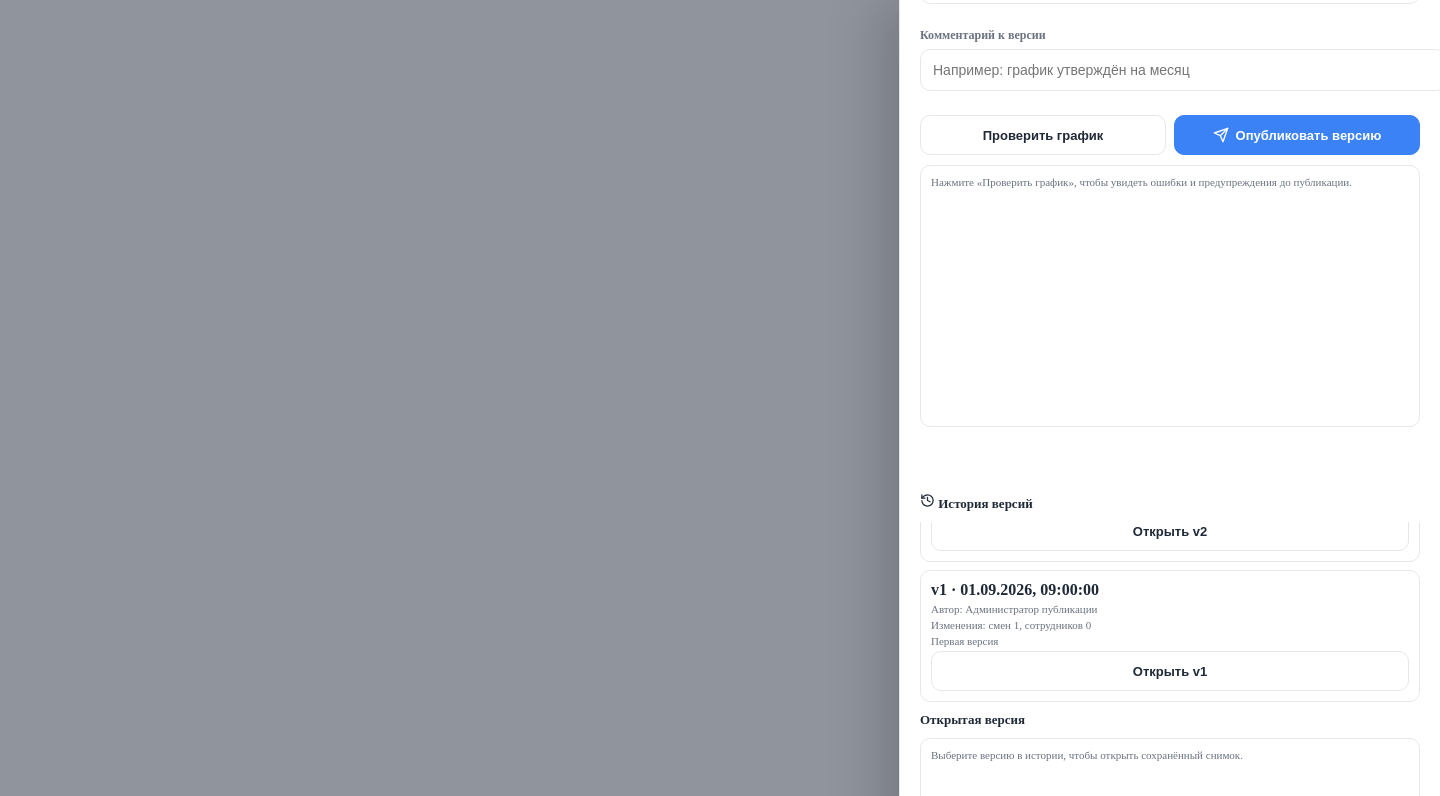
Test: schedule publication controls › loads scoped statuses for each selected publication and handles API errors
(page scrolled)
Click the button "Открыть v1": (1170, 671) [931,651,1409,691]
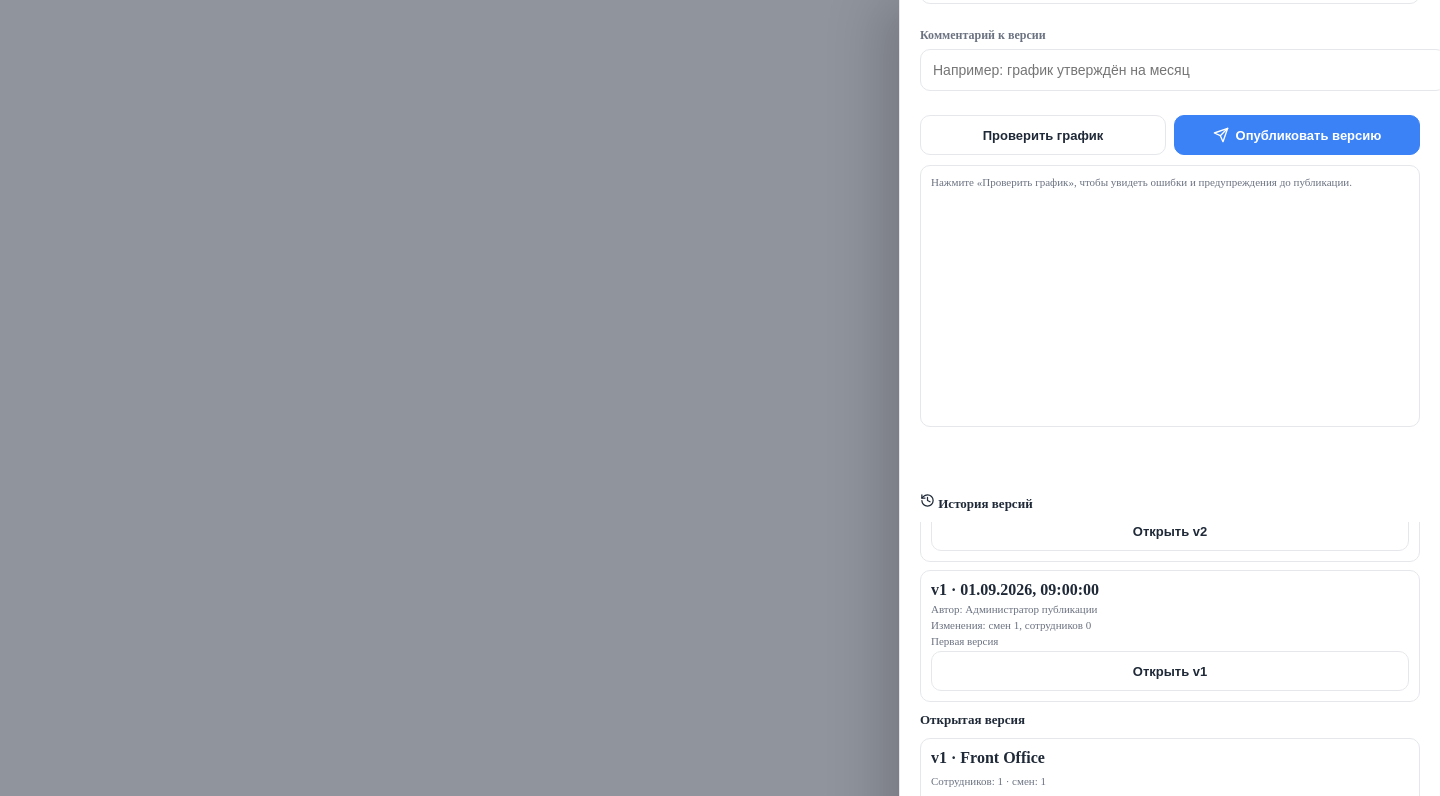
Click the button "Открыть v2": (1170, 531) [931,511,1409,551]
(page scrolled)
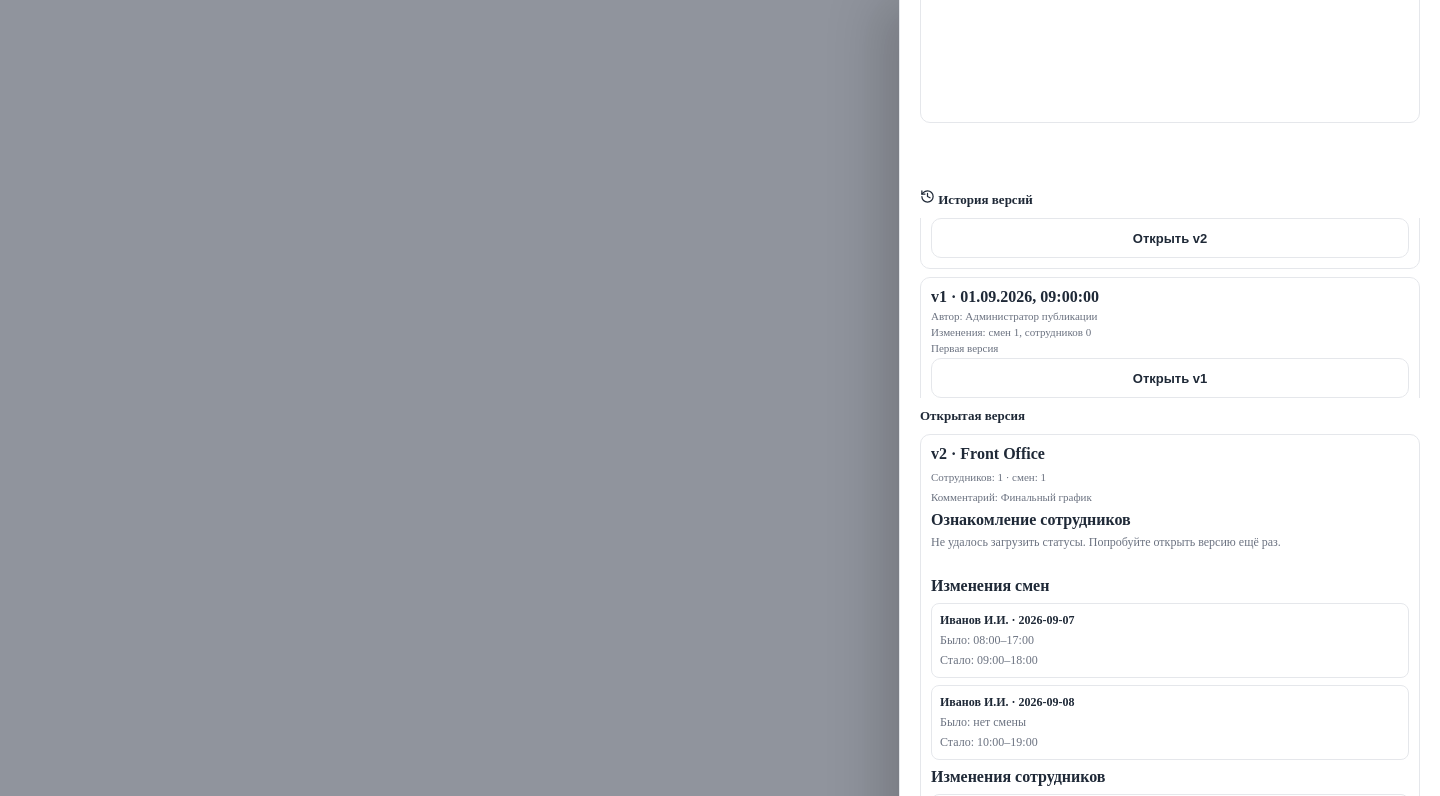
Expected: the text "Не удалось загрузить статусы. Попробуйте открыть версию ещё раз." is shown, [931,535,1281,549]
